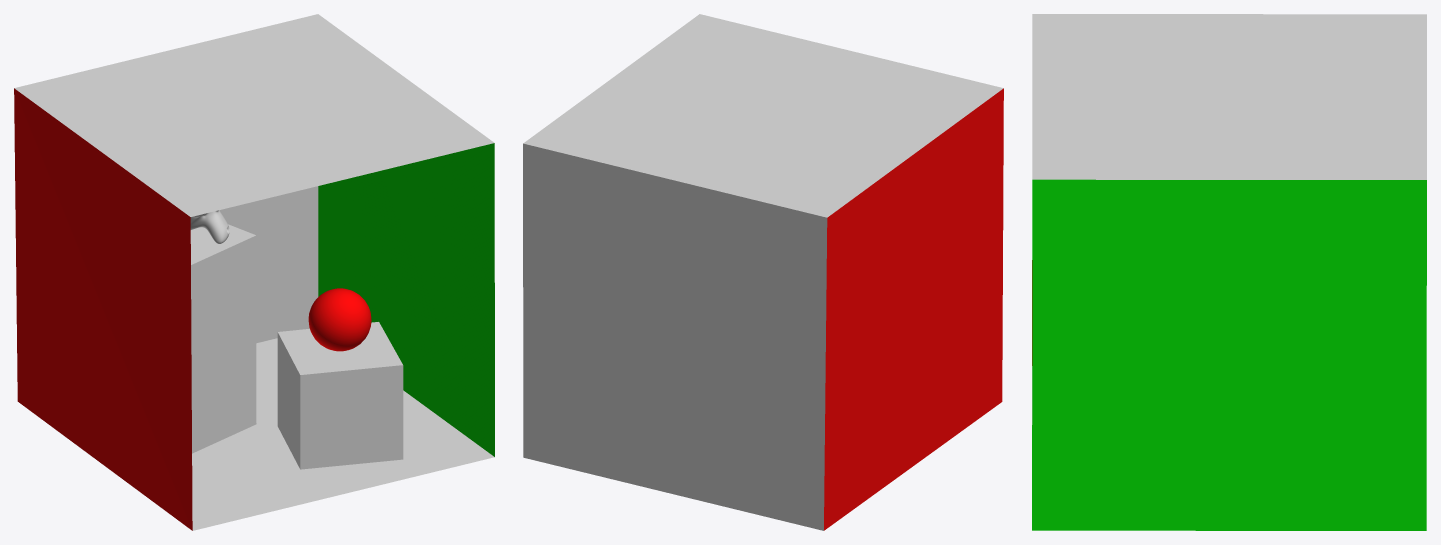
Rendered from CornellBox.gltf.
3 views of the same model, side by side, from view 1: azimuth 30°, elevation 25°; view 2: azimuth 150°, elevation 25°; view 3: azimuth 270°, elevation 25° (orthographic). The views are drawn at different scales.
Visible parts, largest first — view 1: left_wall, ceiling, right_wall, floor, short_box, tall_box, back_wall, sphere, suzanne; view 2: back_wall, left_wall, ceiling; view 3: right_wall, ceiling.
Boxes of the visible parts, left/top/right/bottom form: left_wall: left=14, top=88, right=192, bottom=530; ceiling: left=14, top=14, right=494, bottom=216; right_wall: left=318, top=143, right=494, bottom=456; floor: left=192, top=338, right=494, bottom=530; short_box: left=277, top=322, right=403, bottom=469; tall_box: left=190, top=224, right=256, bottom=453; back_wall: left=219, top=186, right=318, bottom=343; sphere: left=308, top=288, right=371, bottom=351; suzanne: left=190, top=210, right=229, bottom=243; back_wall: left=523, top=143, right=827, bottom=530; left_wall: left=824, top=88, right=1003, bottom=530; ceiling: left=523, top=14, right=1003, bottom=217; right_wall: left=1032, top=179, right=1426, bottom=530; ceiling: left=1032, top=14, right=1426, bottom=179.
Bounding box in the file's own units: 5.56 × 5.49 × 5.59.
